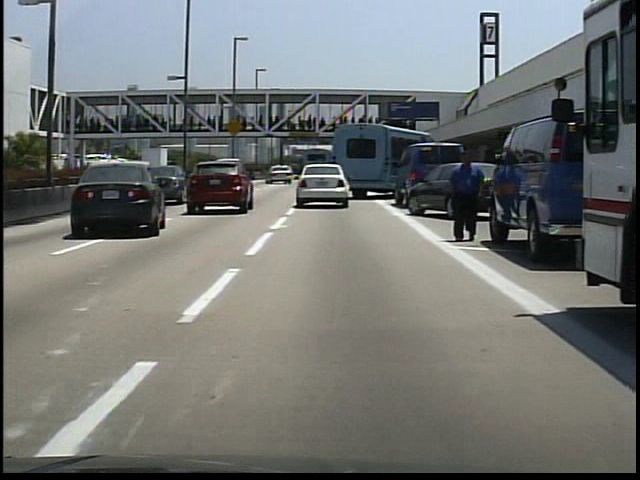person: (444, 147, 493, 247)
